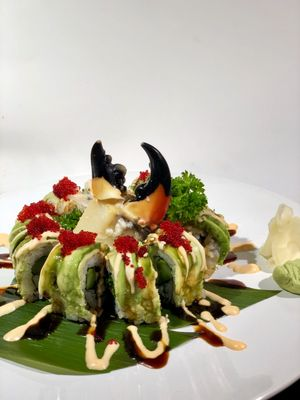curry: (163, 170, 232, 268)
